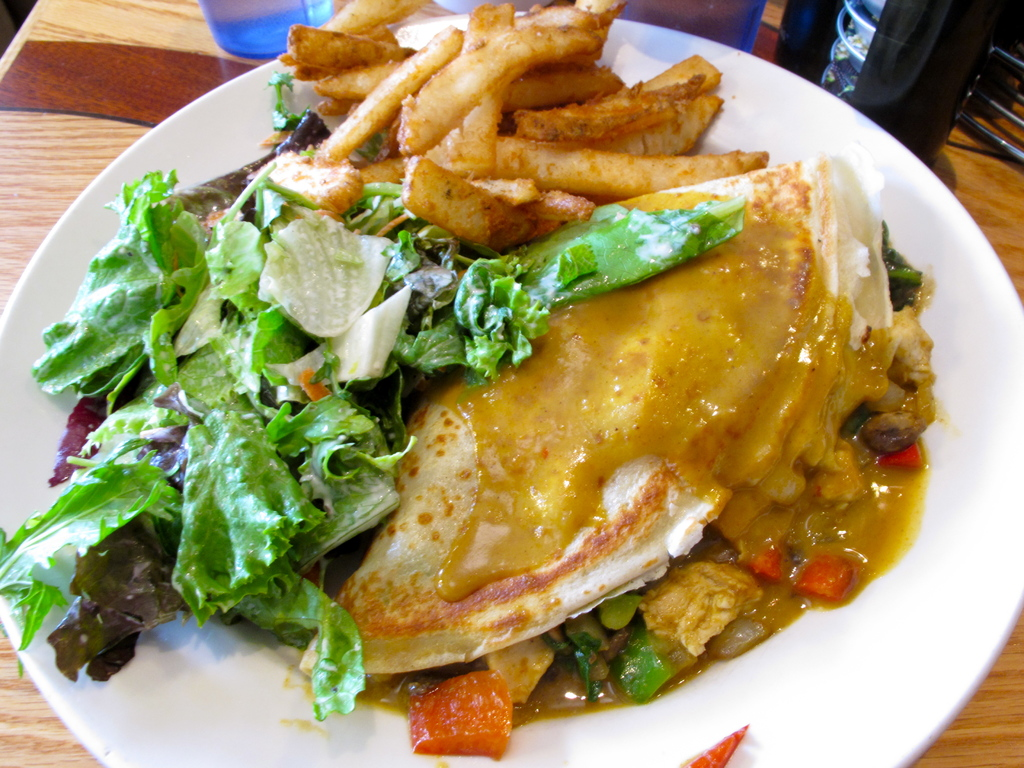French fries: (391, 23, 598, 148), (433, 142, 771, 213), (497, 53, 720, 149), (316, 20, 458, 160), (406, 154, 546, 270), (453, 0, 511, 179), (594, 95, 730, 156), (501, 65, 618, 120), (284, 17, 418, 62), (519, 0, 614, 54), (311, 62, 406, 97), (458, 170, 545, 207), (320, 0, 430, 29), (540, 183, 595, 227)
